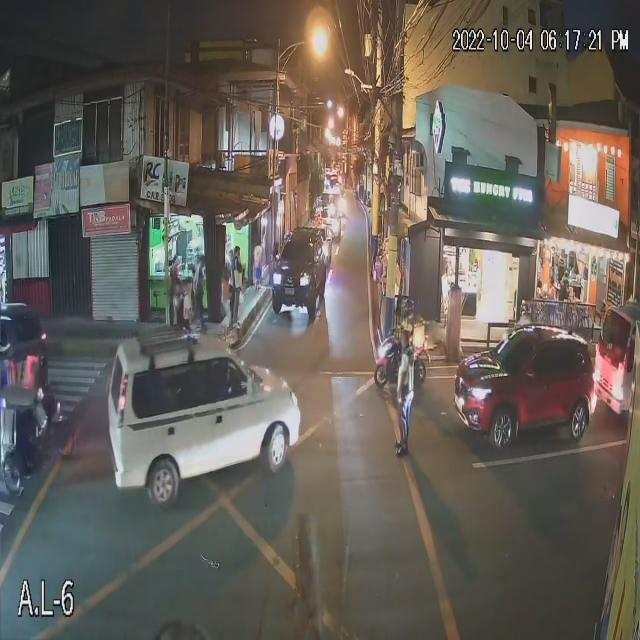helmet: (399, 298, 413, 313)
motorcycle: (372, 330, 432, 390)
rider: (391, 303, 418, 371)
